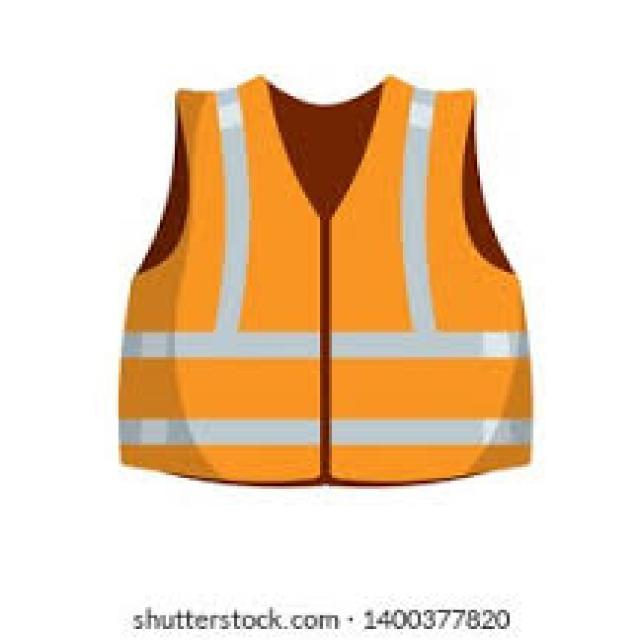Reflective-Jacket: (92, 66, 560, 500)
